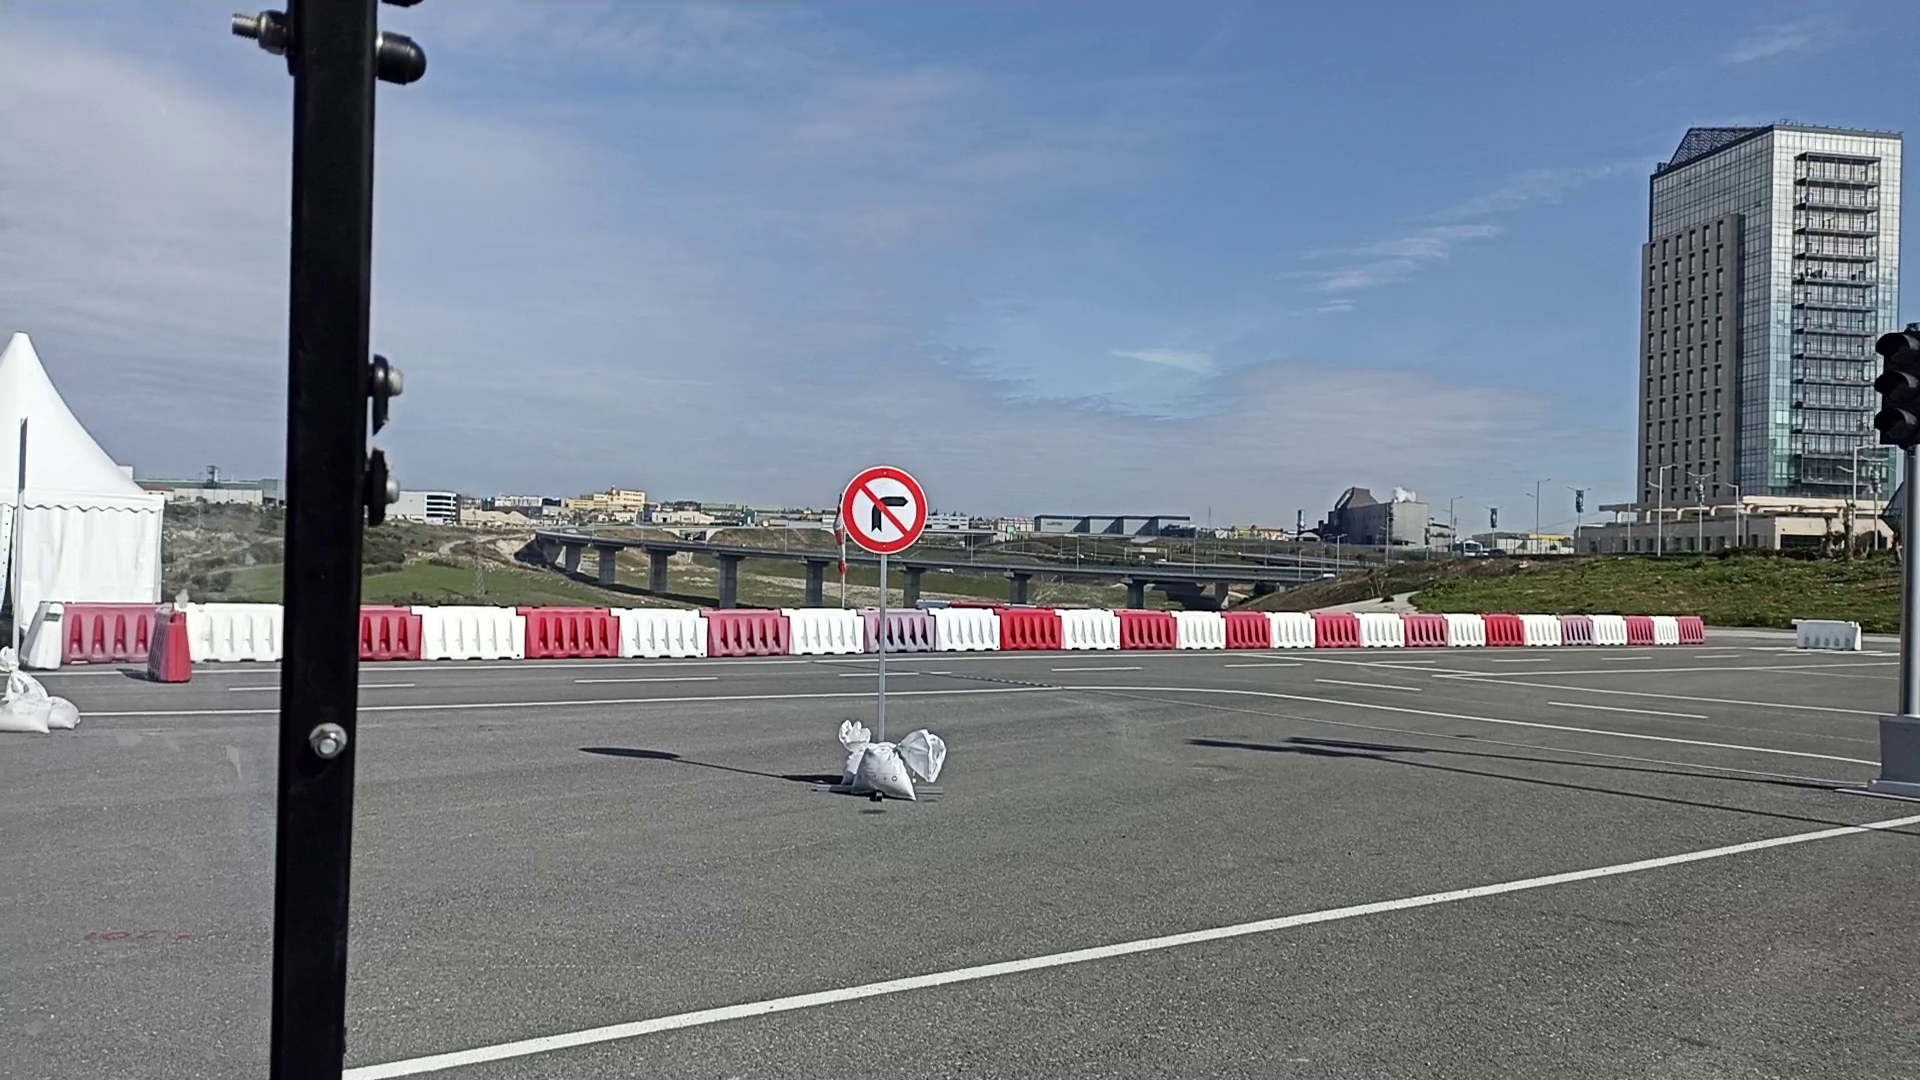noleftturn: (839, 462, 930, 556)
trafficlight: (1870, 324, 1920, 452)
